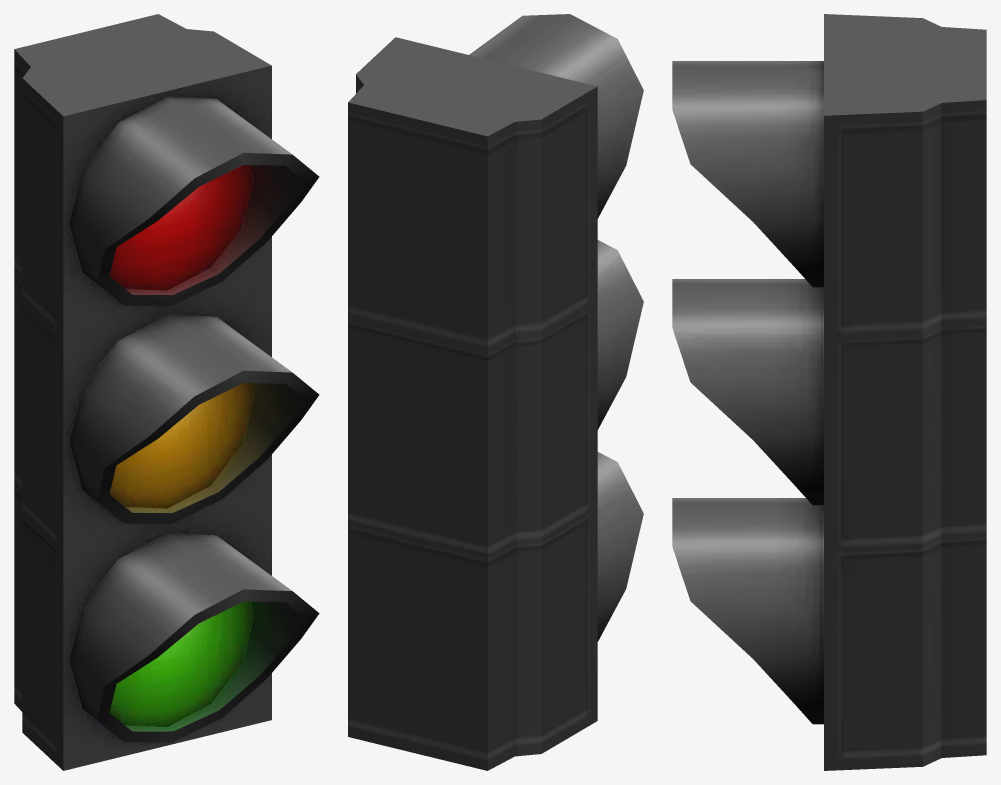
File: traffic_light_head.glb
3 views of the same model, side by side, from view 1: azimuth 30°, elevation 25°; view 2: azimuth 150°, elevation 25°; view 3: azimuth 270°, elevation 25° (orthographic). The views are drawn at different scales.
Visible parts, largest first — view 1: traffic_light_head; view 2: traffic_light_head; view 3: traffic_light_head.
Boxes of the visible parts, x1,y1,x2,y2 form: traffic_light_head: [14, 14, 319, 770]; traffic_light_head: [348, 14, 643, 770]; traffic_light_head: [672, 14, 986, 770].
Size of the model in its own units: 0.3333 by 1 by 0.4351.
1 material, 1 textured.
